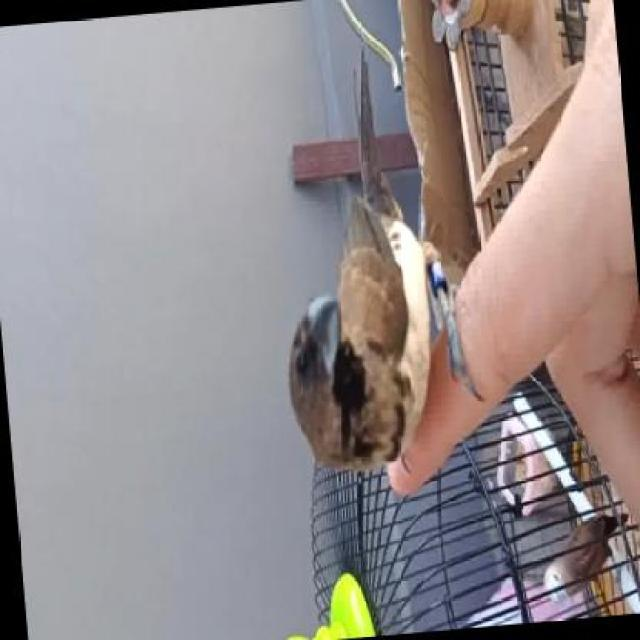Bird: (283, 48, 436, 480), (542, 511, 625, 607)
